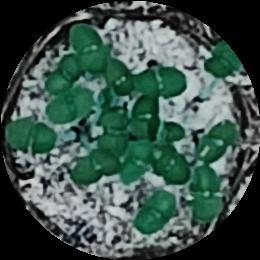Basil: (192, 116, 241, 165), (6, 114, 55, 156), (132, 61, 189, 97), (135, 188, 177, 235), (145, 143, 187, 186), (69, 23, 107, 67), (192, 168, 222, 223), (69, 151, 115, 186), (52, 84, 91, 125), (43, 58, 80, 97), (100, 54, 133, 97), (129, 93, 162, 136), (121, 137, 149, 186), (99, 107, 123, 154), (208, 45, 239, 76)
